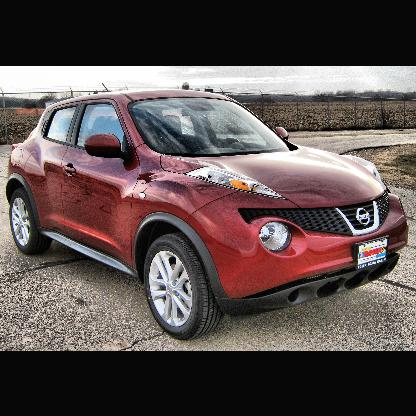Nissan Juke Hatchback 2012: (6, 92, 411, 341)
